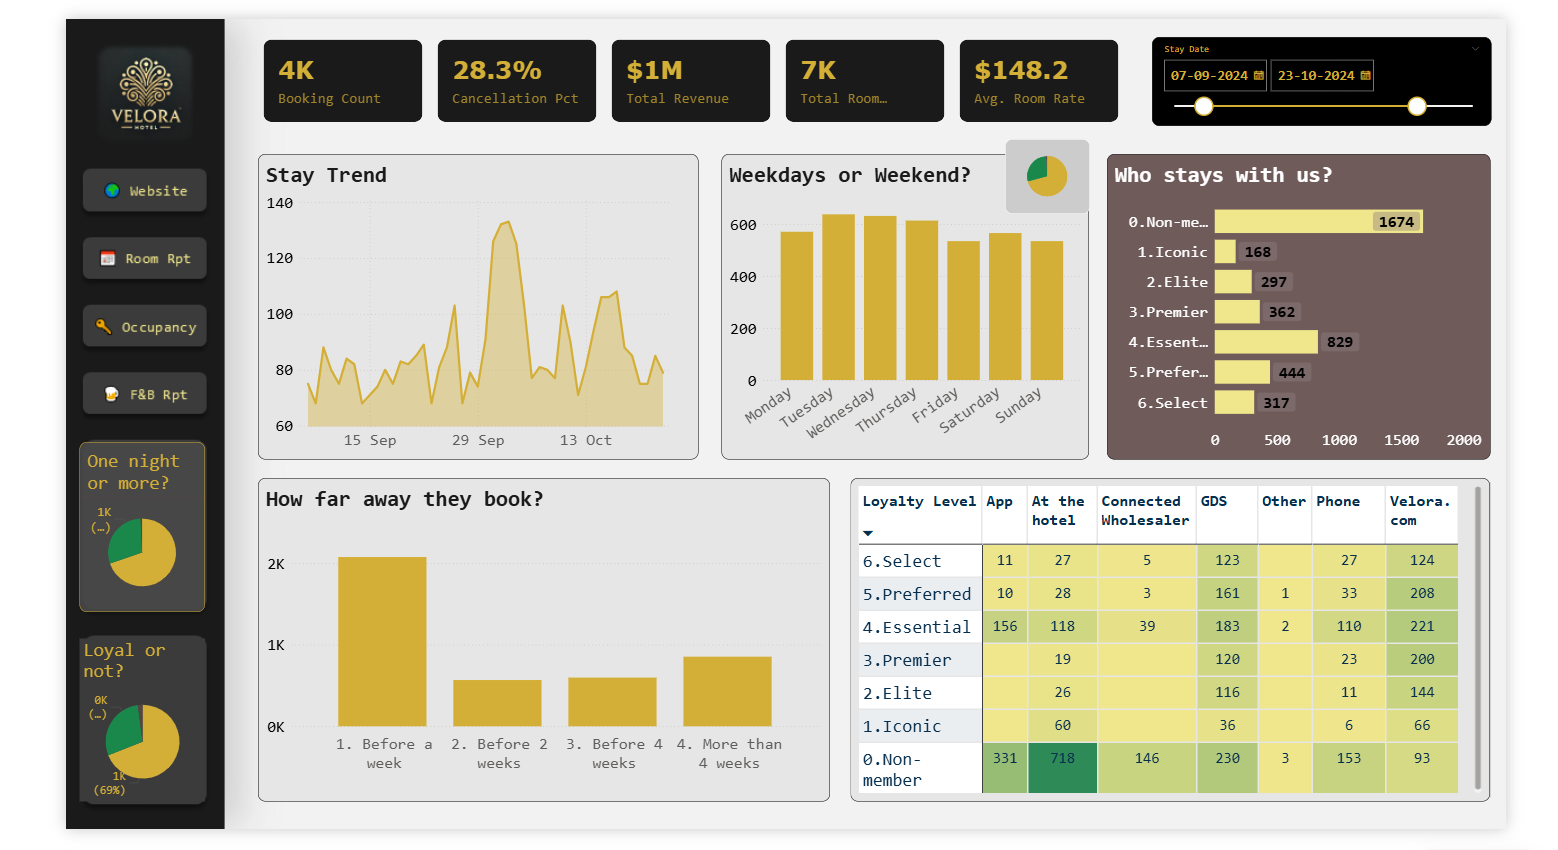

The dashboard page shown, as its layout file describes it:
{"tool":"powerbi","page":{"name":"Bookings Report BLANK","canvas":[1920,1080],"ordinal":0},"visuals":[{"type":"cardVisual","fields":{"Data":["bookings.Booking Count","bookings.Cancellation Pct","bookings.Total Revenue","bookings.Total Room Nights","bookings.Avg. Room Rate"]},"box":[258.2,21.3,1150.3,120.8],"z":0},{"type":"lineChart","title":"Stay Trend","fields":{"Category":["bookings.Stay Date"],"Y":["bookings.Booking Count"]},"box":[255.8,180,587.4,407.4],"z":1000},{"type":"slicer","fields":{"Values":["bookings.Stay Date"]},"box":[1447.1,23.7,452.4,118.4],"z":2000},{"type":"clusteredColumnChart","title":"Weekdays or Weekend?","fields":{"Category":["bookings.Day Name"],"Y":["bookings.Booking Count"]},"box":[874,180,490.3,407.4],"z":3000},{"type":"clusteredBarChart","title":"Who stays with us?","fields":{"Category":["bookings.Loyalty Level"],"Y":["bookings.Booking Count"]},"box":[1387.9,180,511.6,407.4],"z":4000},{"type":"clusteredColumnChart","title":"How far away they book?","fields":{"Y":["bookings.Booking Count"],"Category":["bookings.How far away bucket"]},"box":[255.8,611.1,762.6,431.1],"z":5000},{"type":"pivotTable","fields":{"Rows":["bookings.Loyalty Level"],"Columns":["bookings.Booking Channel"],"Values":["bookings.Booking Count"]},"box":[1046.9,611.1,852.6,431.1],"z":6000},{"type":"pieChart","title":"Loyal or not?","fields":{"Category":["bookings.Status"],"Y":["bookings.Not Loyal Customer Booking Count"]},"box":[18.9,826.2,167.6,217.2],"z":7000},{"type":"pieChart","title":"One night or more?","fields":{"Category":["bookings.Status"],"Y":["bookings.Multi-night booking count"]},"box":[18.9,564.2,167.6,226.6],"z":8000},{"type":"pieChart","fields":{"Y":["bookings.Booking Count"],"Category":["bookings.Status"]},"box":[1252.5,160,113.3,100],"z":9000}]}

Visuals, with their boxes in screenshot pixels (x1, y1, x2, y2):
cardVisual - bookings.Booking Count x bookings.Cancellation Pct: [x1=220, y1=33, x2=1111, y2=126]
"Stay Trend" lineChart: [x1=218, y1=156, x2=673, y2=471]
slicer - bookings.Stay Date: [x1=1141, y1=35, x2=1491, y2=126]
"Weekdays or Weekend?" clusteredColumnChart: [x1=697, y1=156, x2=1077, y2=471]
"Who stays with us?" clusteredBarChart: [x1=1095, y1=156, x2=1491, y2=471]
"How far away they book?" clusteredColumnChart: [x1=218, y1=489, x2=809, y2=823]
pivotTable - bookings.Loyalty Level x bookings.Booking Channel: [x1=831, y1=489, x2=1491, y2=823]
"Loyal or not?" pieChart: [x1=35, y1=656, x2=165, y2=824]
"One night or more?" pieChart: [x1=35, y1=453, x2=165, y2=629]
pieChart - bookings.Booking Count x bookings.Status: [x1=990, y1=140, x2=1078, y2=218]
